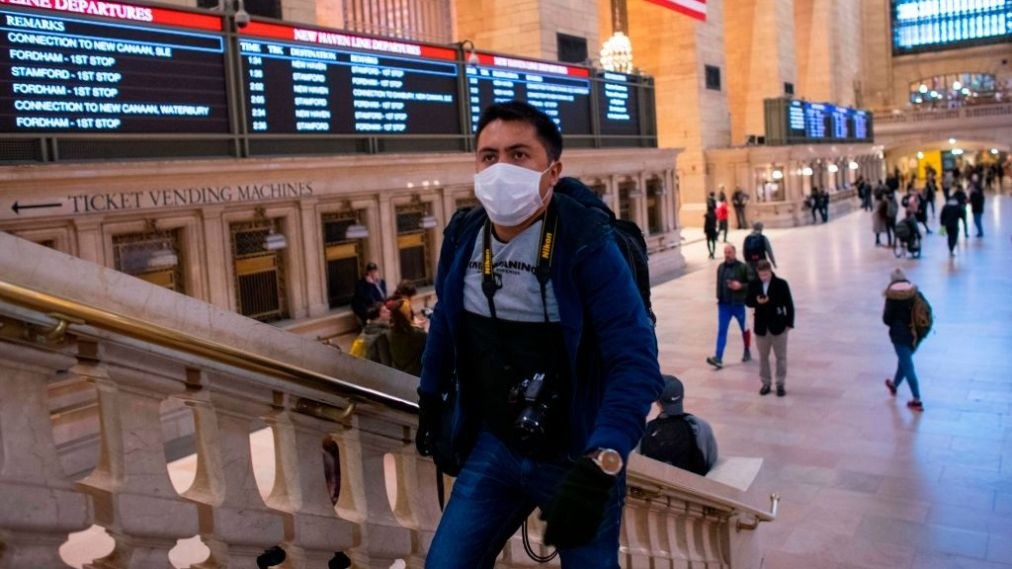face_with_mask: (474, 108, 555, 227)
